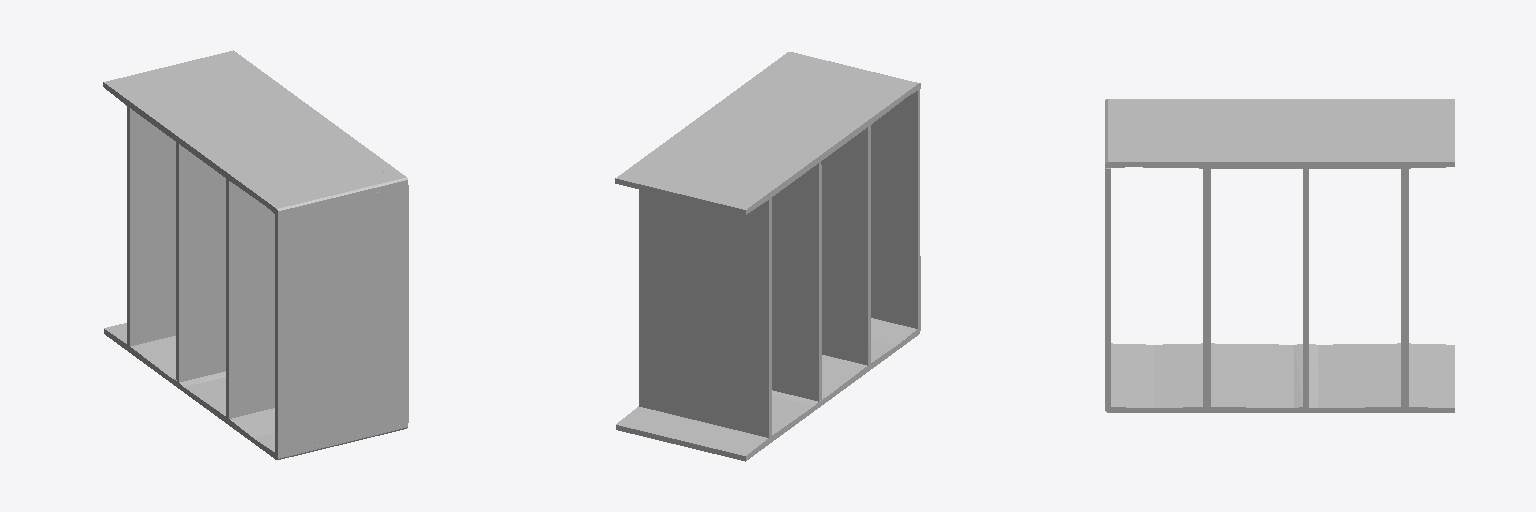
Rendered from bookshelves_vhacd.obj.
3 views of the same model, side by side, from view 1: azimuth 30°, elevation 25°; view 2: azimuth 150°, elevation 25°; view 3: azimuth 270°, elevation 25° (orthographic).
Visible parts, largest first — view 1: convex_1, convex_0, convex_6, convex_8, convex_4, convex_2, convex_7, convex_3, convex_9; view 2: convex_4, convex_0, convex_6, convex_1, convex_8, convex_3, convex_7, convex_2, convex_9; view 3: convex_0, convex_7, convex_3, convex_9, convex_4, convex_8, convex_2, convex_1, convex_6, convex_5.
Boxes of the visible parts, box(x1,y1,x2,y2) form: convex_1: box(275, 185, 408, 454); convex_0: box(103, 50, 395, 205); convex_6: box(176, 142, 225, 382); convex_8: box(226, 179, 274, 418); convex_4: box(127, 106, 175, 346); convex_2: box(266, 170, 407, 216); convex_7: box(184, 377, 274, 442); convex_3: box(104, 323, 175, 382); convex_9: box(254, 424, 407, 459); convex_4: box(639, 189, 771, 437); convex_0: box(615, 59, 907, 214); convex_6: box(772, 162, 821, 401); convex_1: box(871, 89, 920, 328); convex_8: box(821, 125, 870, 365); convex_3: box(616, 396, 813, 461); convex_7: box(822, 340, 895, 401); convex_2: box(779, 52, 920, 95); convex_9: box(871, 318, 920, 350); convex_0: box(1130, 99, 1454, 168); convex_7: box(1154, 343, 1293, 412); convex_3: box(1318, 343, 1454, 412); convex_9: box(1105, 343, 1153, 412); convex_4: box(1401, 169, 1408, 406); convex_8: box(1203, 169, 1210, 406); convex_2: box(1105, 99, 1129, 168); convex_1: box(1105, 168, 1110, 406); convex_6: box(1303, 169, 1308, 406); convex_5: box(1294, 344, 1317, 412).
Size of the model in its own units: 0.6085 by 1.12 by 1.42.